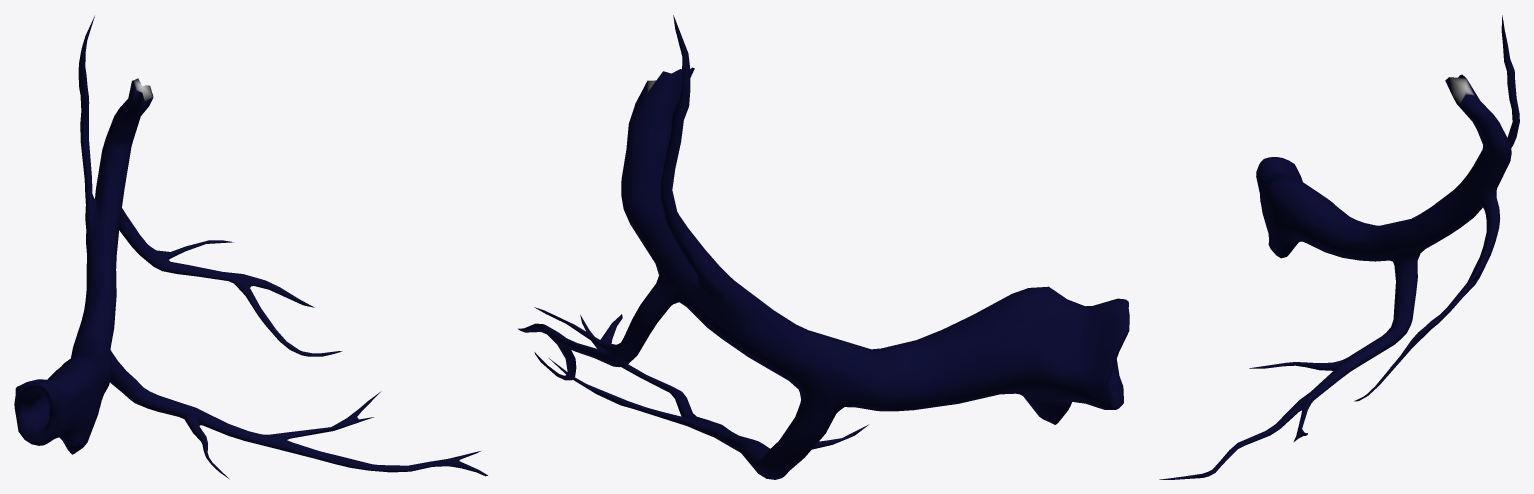
Rendered from VeiaAzul2.fbx.
3 views of the same model, side by side, from view 1: azimuth 30°, elevation 25°; view 2: azimuth 150°, elevation 25°; view 3: azimuth 270°, elevation 25° (orthographic). The views are drawn at different scales.
Visible parts, largest first — view 1: veins_5; view 2: veins_5; view 3: veins_5.
Boxes of the visible parts, left/top/right/bottom form: veins_5: left=14, top=16, right=487, bottom=479; veins_5: left=518, top=15, right=1129, bottom=479; veins_5: left=1159, top=15, right=1519, bottom=479.
Size of the model in its own units: 0.7989 by 0.7205 by 0.6321.
